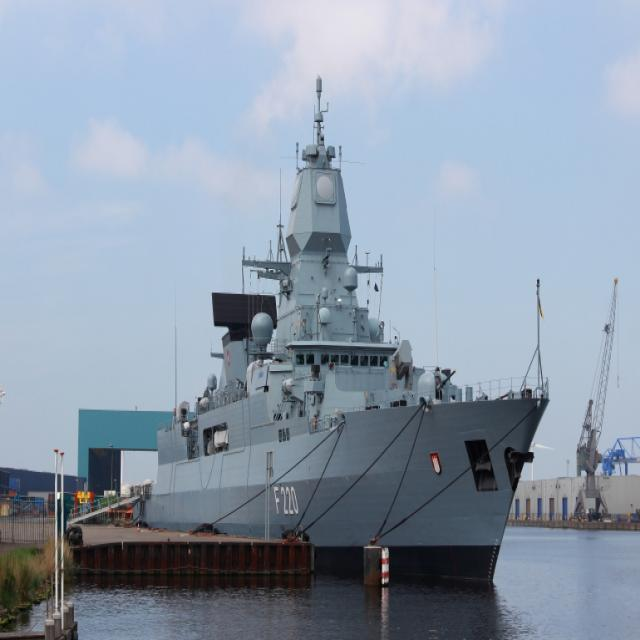Fragata: (128, 69, 561, 598)
